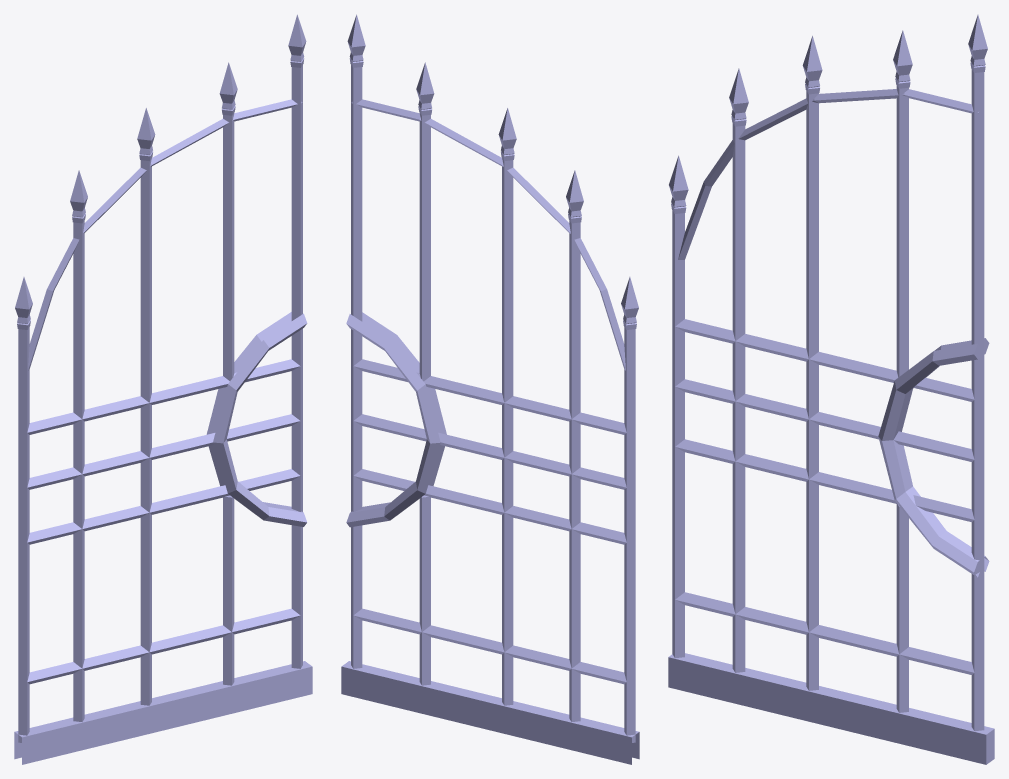
File: SM_Fence_04.fbx
3 renders of one model, left to right at view 1: azimuth 30°, elevation 25°; view 2: azimuth 150°, elevation 25°; view 3: azimuth 330°, elevation 25°, orthographic. The views are drawn at different scales.
Parts seen in each view (by area): view 1: Object022; view 2: Object022; view 3: Object022.
Part boxes in pixels (left/top/right/bottom): Object022: left=14, top=14, right=312, bottom=764; Object022: left=341, top=14, right=639, bottom=764; Object022: left=668, top=14, right=994, bottom=764.
Size of the model in its own units: 109 by 242 by 9.08.
